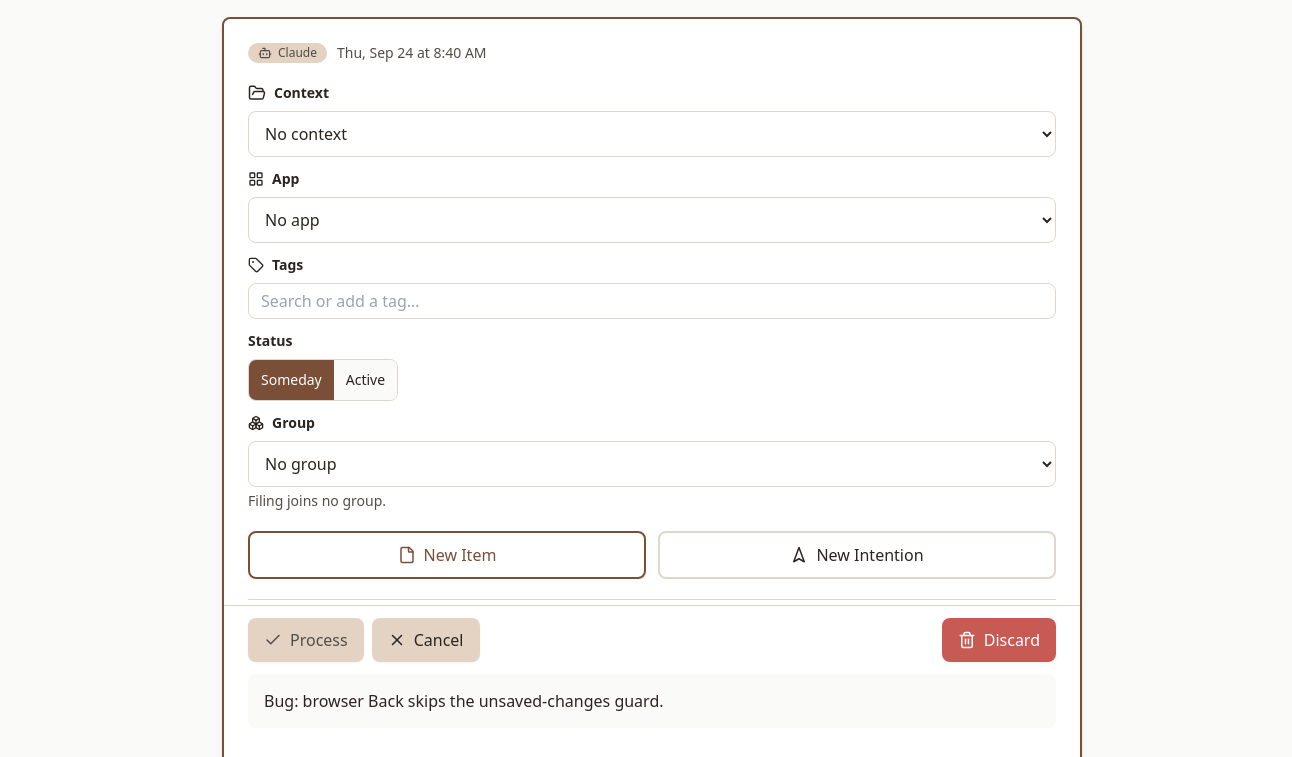
Scenario: correcting the captured text › opens the editor when the capture text itself is tapped
Click the button with aria-label "Edit this capture".
click(652, 701)  # box [248, 674, 1056, 728]
(page scrolled)
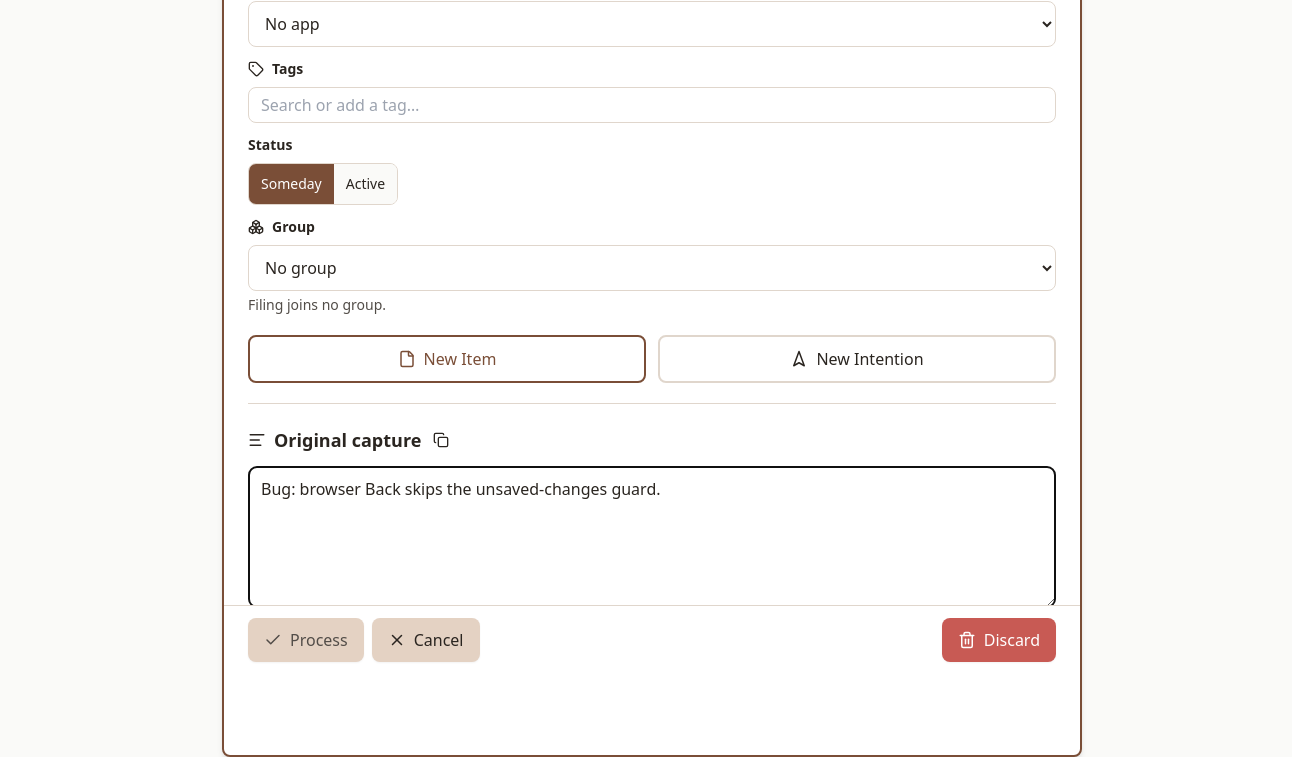
Result: the text box named "Capture text" is shown at [248, 466, 1056, 608]
